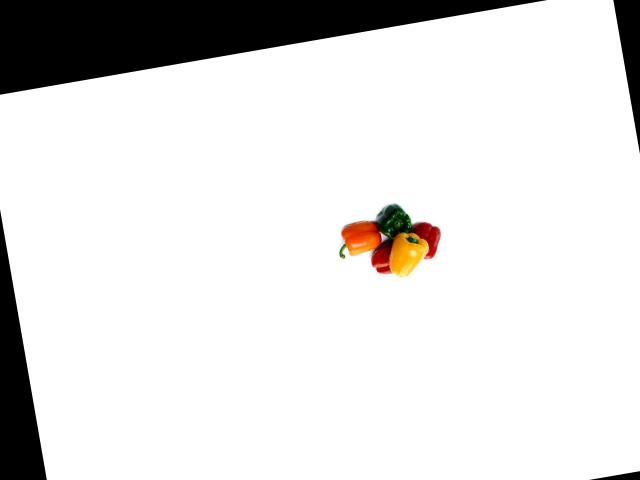bell_pepper: (371, 195, 422, 250)
